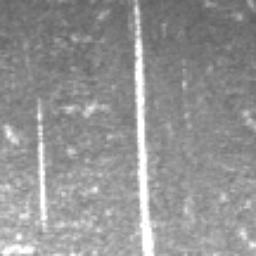Bright scratch: (134, 0, 153, 256), (37, 100, 47, 220)
